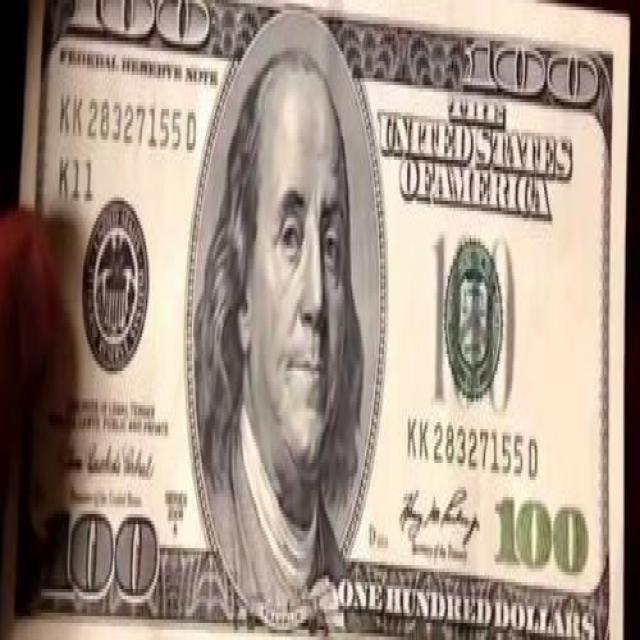100-Front: (1, 0, 625, 640)
